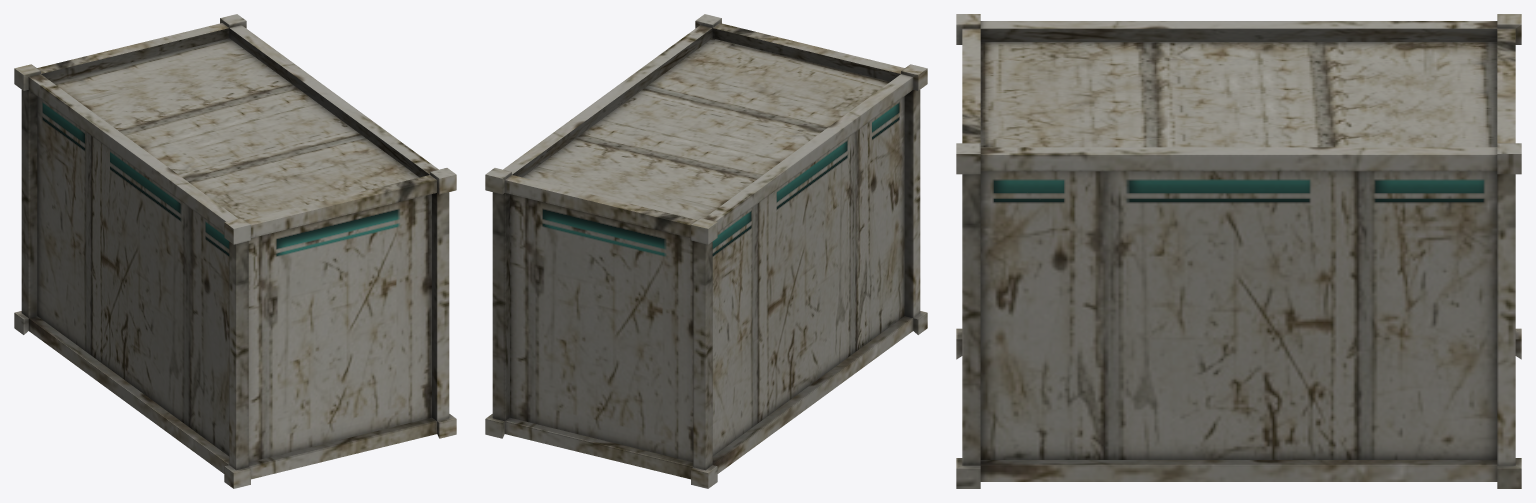
Rendered from CrateLarge_B.fbx.
3 renders of one model, left to right at view 1: azimuth 30°, elevation 25°; view 2: azimuth 150°, elevation 25°; view 3: azimuth 270°, elevation 25°, orthographic. The views are drawn at different scales.
Visible parts, largest first — view 1: polySurface3566; view 2: polySurface3566; view 3: polySurface3566.
Part boxes in pixels (<box>): polySurface3566: <box>14,14,456,488</box>; polySurface3566: <box>485,14,927,488</box>; polySurface3566: <box>956,14,1521,488</box>.
Bounding box in the file's own units: 9.34 × 10.42 × 15.93.
